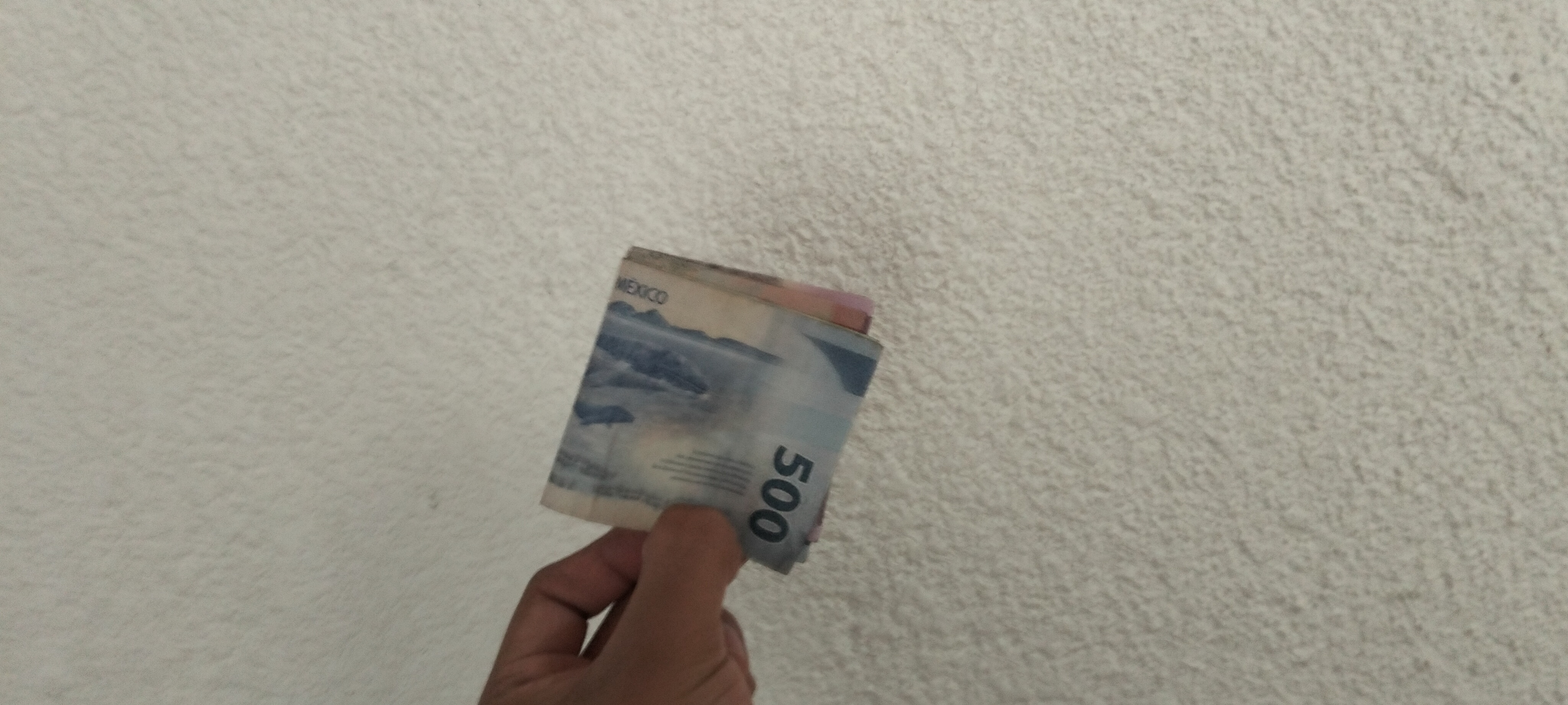billetes: (514, 215, 905, 577)
